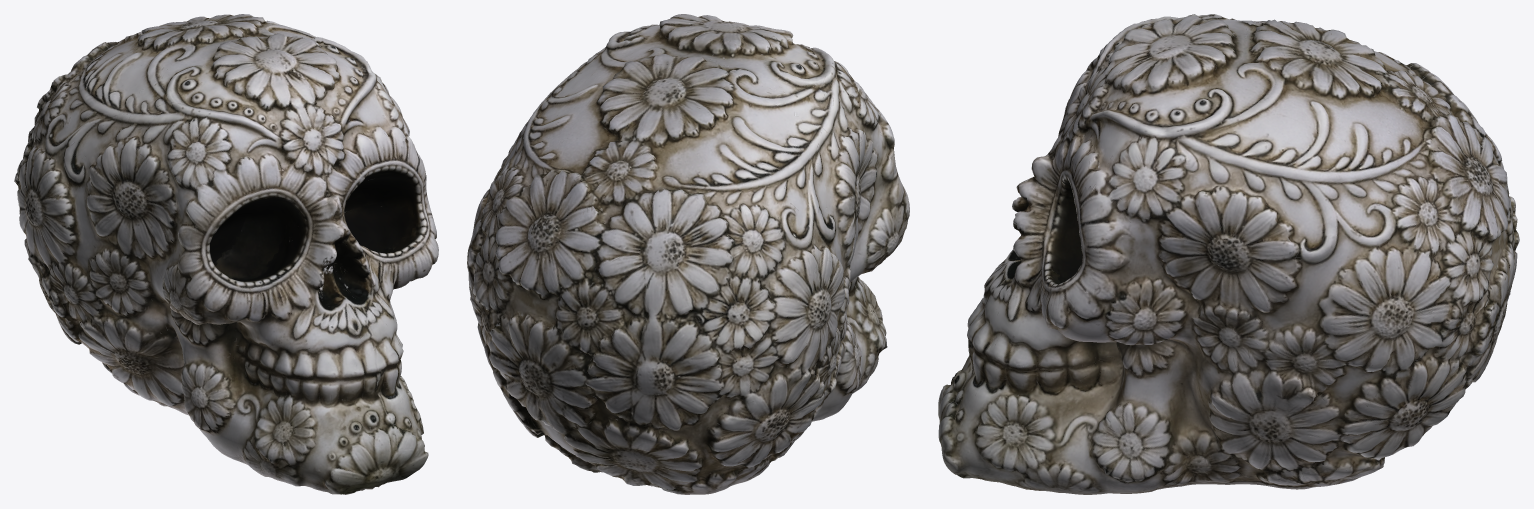
The model's file is caveman.glb.
3 renders of one model, left to right at view 1: azimuth 30°, elevation 25°; view 2: azimuth 150°, elevation 25°; view 3: azimuth 270°, elevation 25°, orthographic. The views are drawn at different scales.
Parts seen in each view (by area): view 1: Object_2; view 2: Object_2; view 3: Object_2.
Boxes of the visible parts, x1,y1,x2,y2 form: Object_2: (14,14,438,494); Object_2: (467,14,909,494); Object_2: (938,14,1519,494).
Bounding box in the file's own units: 1.91 × 2.15 × 2.69.
1 material, 1 textured.
